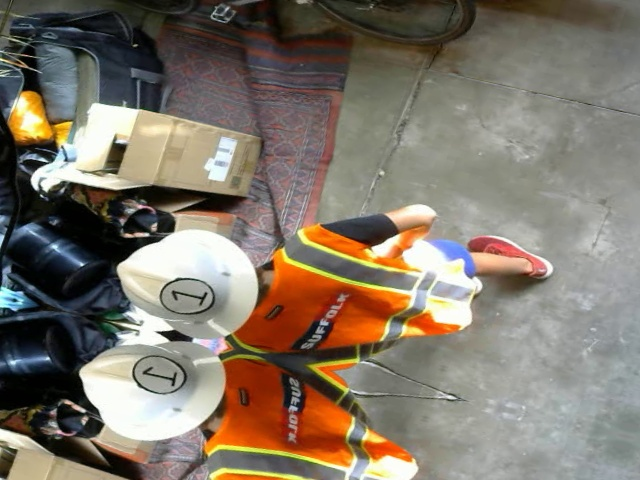one: (154, 272, 220, 319)
